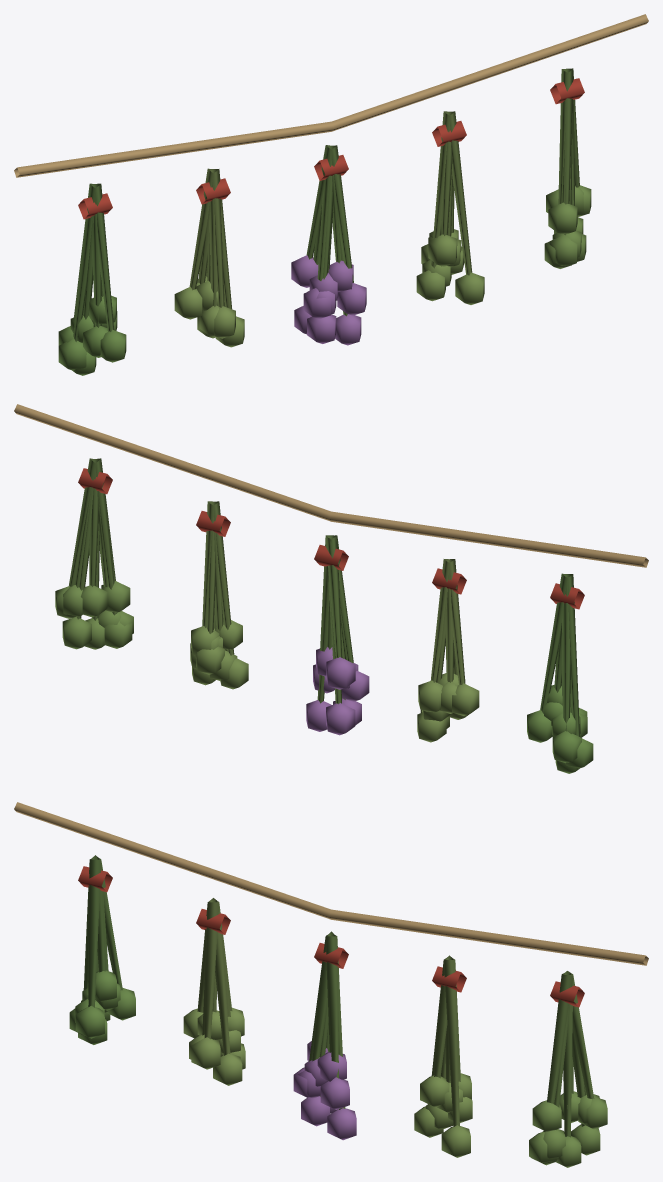
The model's file is Hut_Herbs.fbx.
3 views of the same model, one above another, from view 1: azimuth 30°, elevation 25°; view 2: azimuth 150°, elevation 25°; view 3: azimuth 330°, elevation 25° (orthographic).
Parts seen in each view (by area): view 1: Hut_Herbs; view 2: Hut_Herbs; view 3: Hut_Herbs.
Part boxes in pixels (left/top/right/bottom): Hut_Herbs: left=14, top=14, right=648, bottom=375; Hut_Herbs: left=14, top=404, right=648, bottom=773; Hut_Herbs: left=14, top=802, right=648, bottom=1167.
Bounding box in the file's own units: 32.05 × 12.46 × 3.25.
